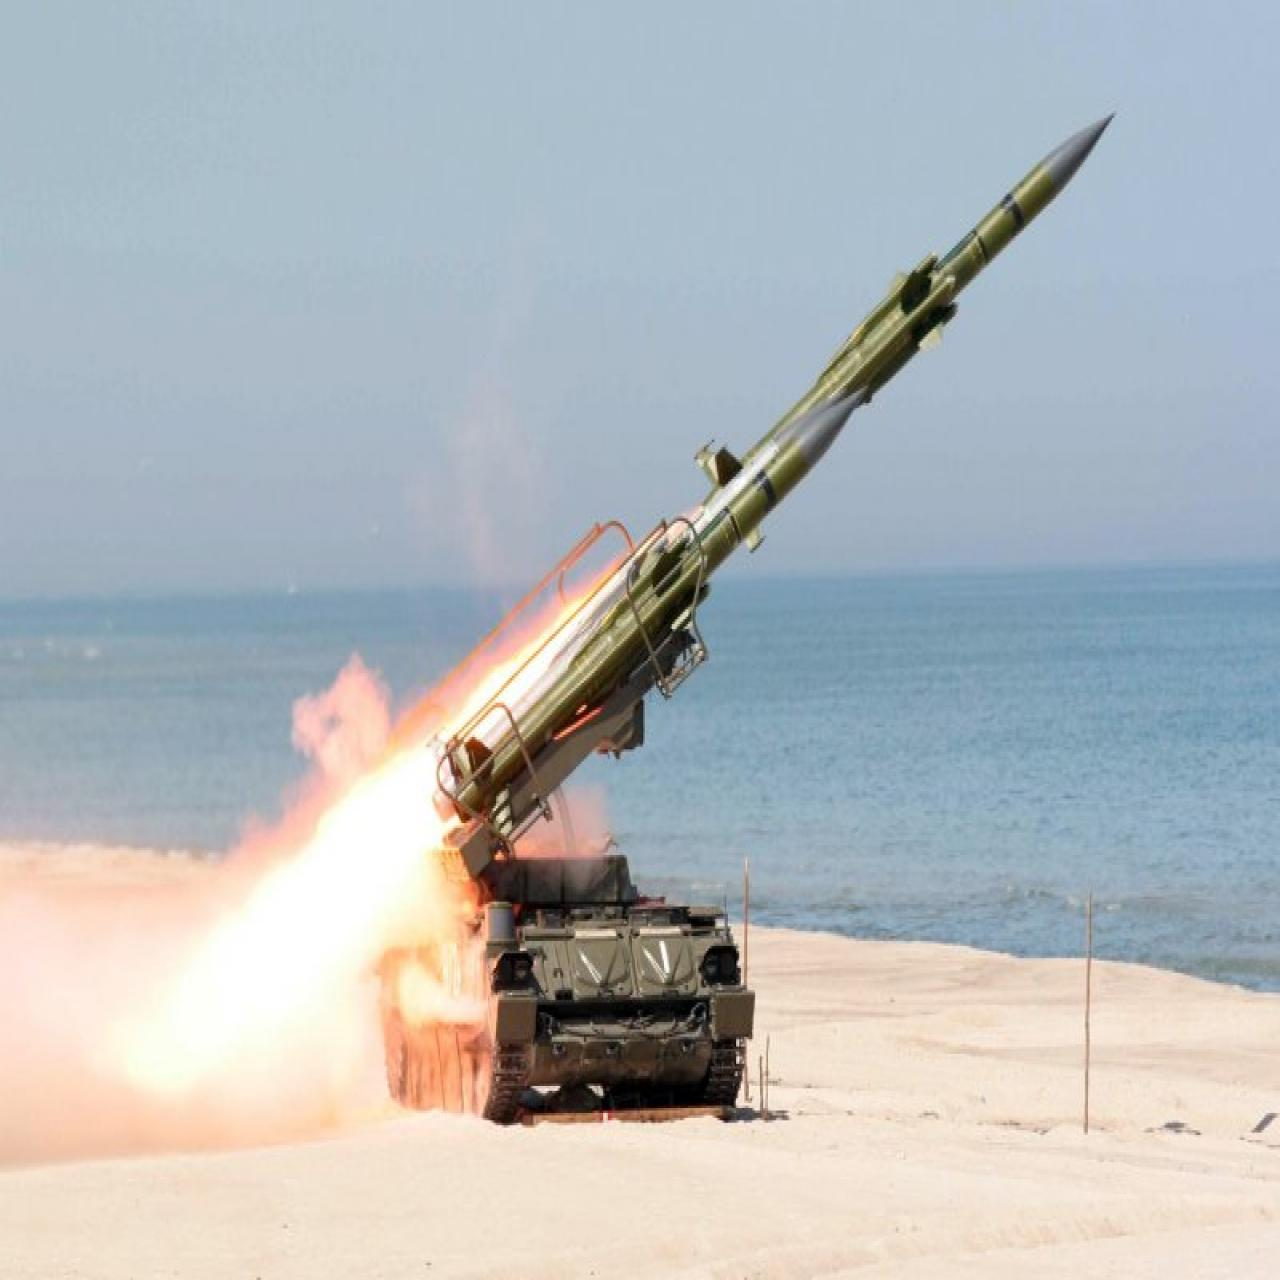MIL_Veh: (380, 537, 761, 1111)
